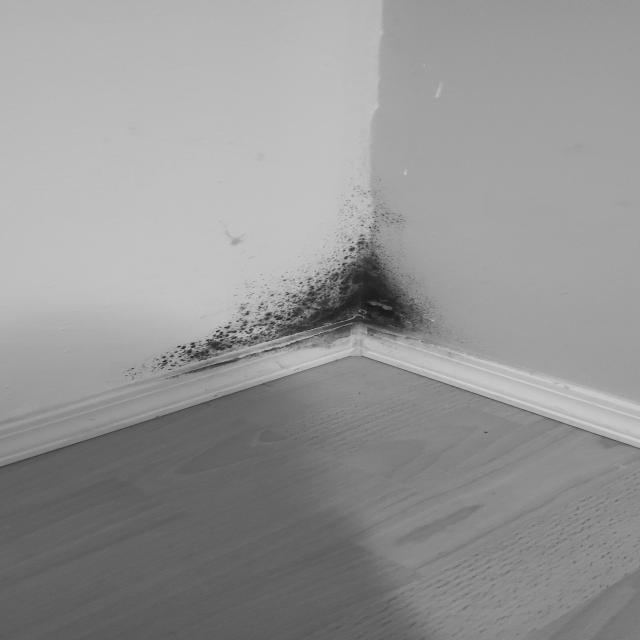stain marks: (108, 206, 466, 380)
